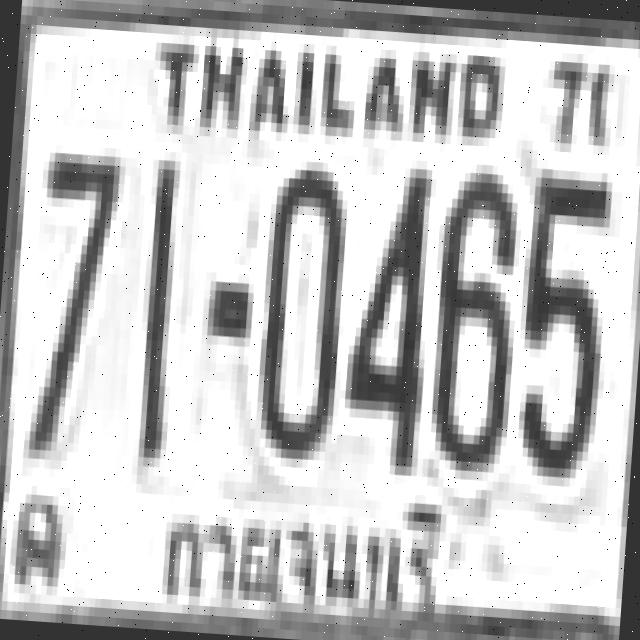0: (253, 158, 344, 452)
1: (135, 160, 178, 458)
4: (340, 160, 432, 462)
5: (510, 168, 607, 470)
6: (423, 162, 520, 464)
7: (20, 142, 119, 454)
Kanchanaburi: (152, 476, 452, 633)
